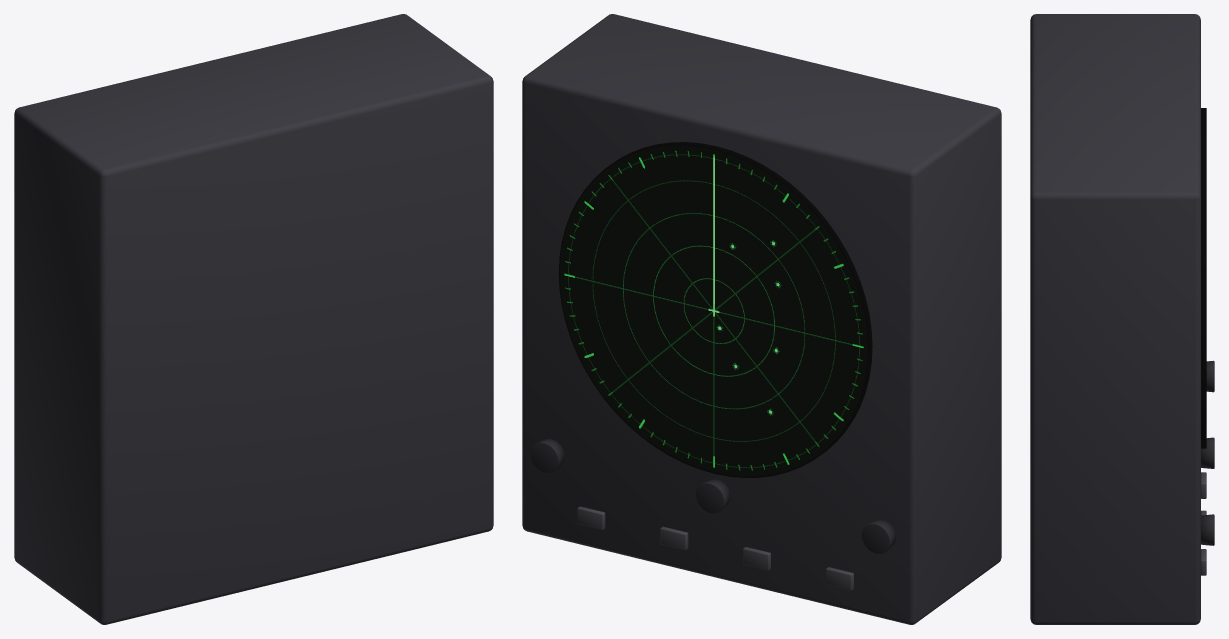
Rendered from Radar_VR_v1.0.glb.
3 renders of one model, left to right at view 1: azimuth 30°, elevation 25°; view 2: azimuth 150°, elevation 25°; view 3: azimuth 270°, elevation 25°, orthographic. The views are drawn at different scales.
Parts seen in each view (by area): view 1: radar_body; view 2: radar_body, ppi_display, knob_brightness, knob_gain, knob_range; view 3: radar_body, ppi_display, knob_brightness, knob_gain, knob_range.
Part boxes in pixels (<box>): radar_body: <box>14,14,493,624</box>; radar_body: <box>522,14,1001,624</box>; ppi_display: <box>558,142,872,477</box>; knob_brightness: <box>530,438,564,473</box>; knob_gain: <box>696,479,730,513</box>; knob_range: <box>861,519,896,554</box>; radar_body: <box>1030,14,1200,624</box>; ppi_display: <box>1201,108,1206,448</box>; knob_brightness: <box>1201,514,1214,545</box>; knob_gain: <box>1201,437,1214,468</box>; knob_range: <box>1206,360,1214,392</box>.
Bounding box in the file's own units: 0.38 × 0.42 × 0.162.
5 materials, 1 textured.
